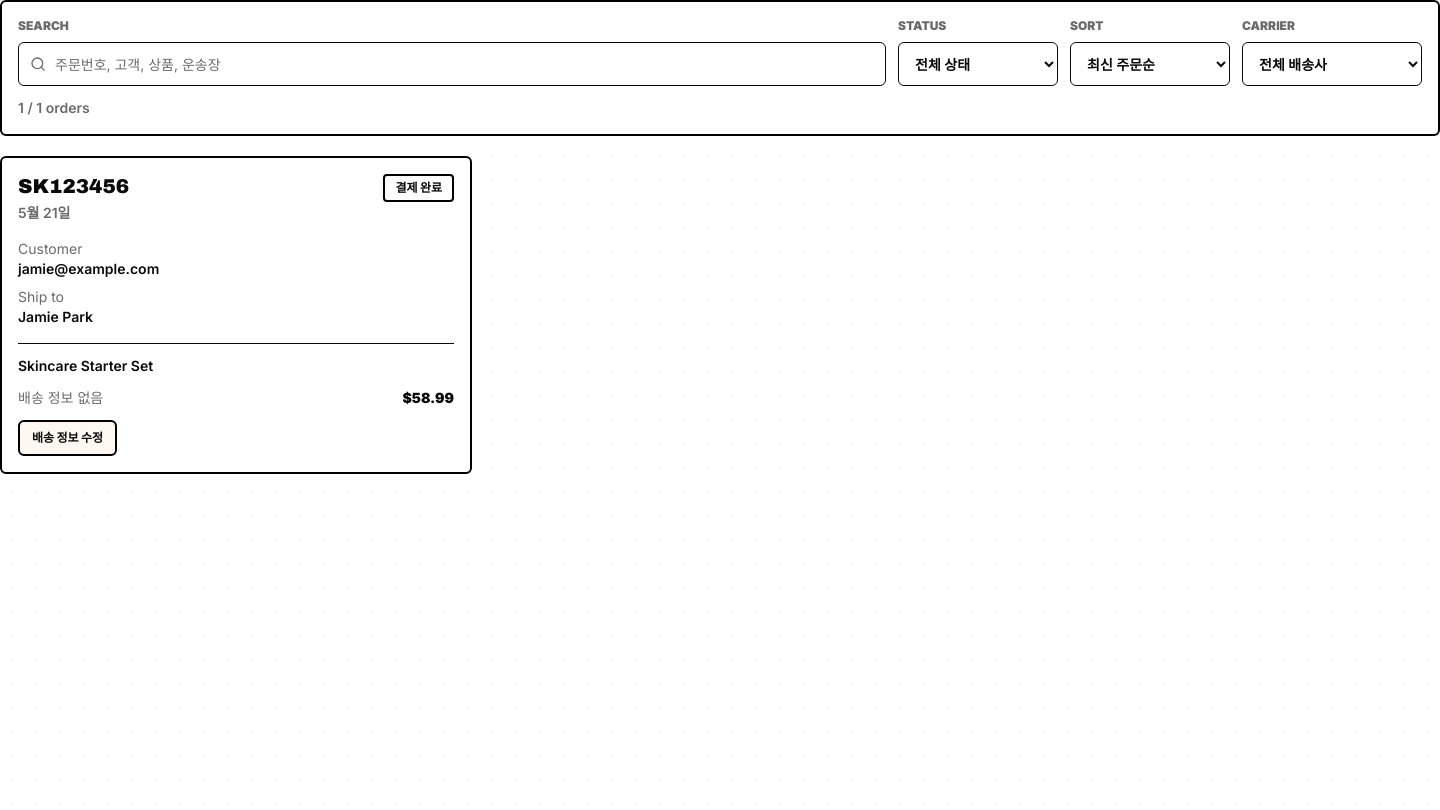
AdminOrdersClient › sends carrier and tracking details for a single order update
Click the button with test id "admin-order-order_1" at [236, 315], box 0,156 -> 472,474
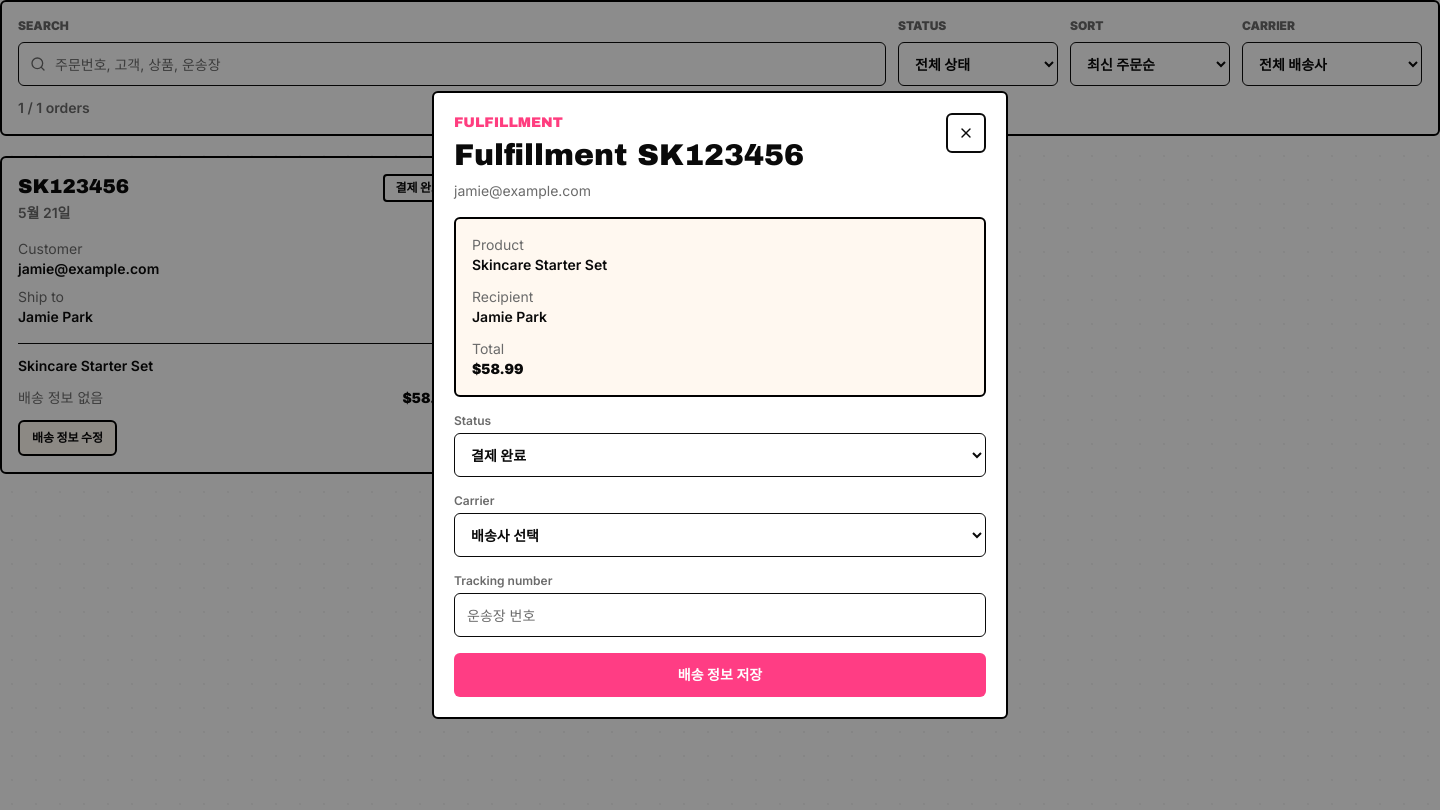
Select "준비 중" in the dropdown labelled "Status" at [720, 455], box 454,433 -> 986,477
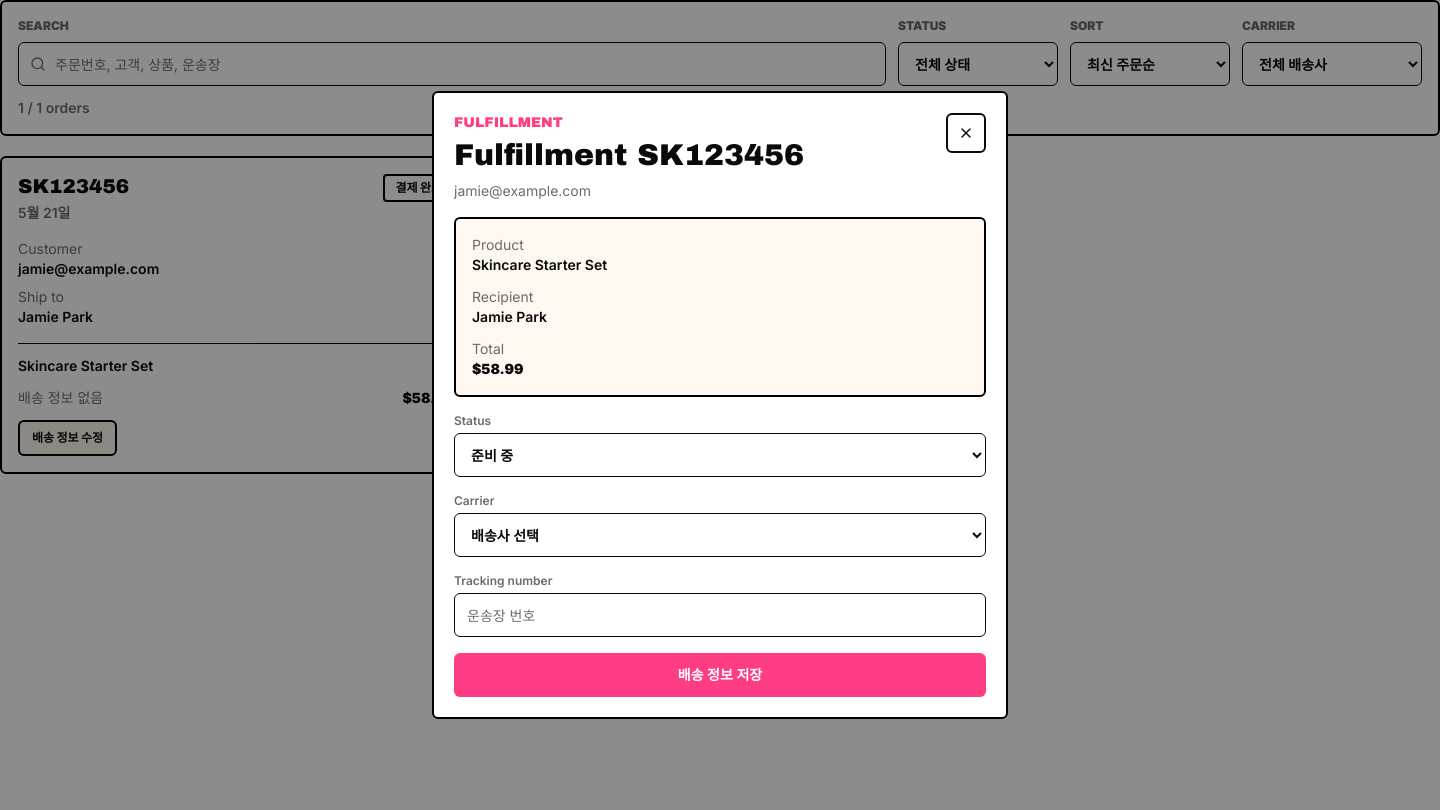
Select "FedEx" in the dropdown labelled "Carrier" at [720, 535], box 454,513 -> 986,557
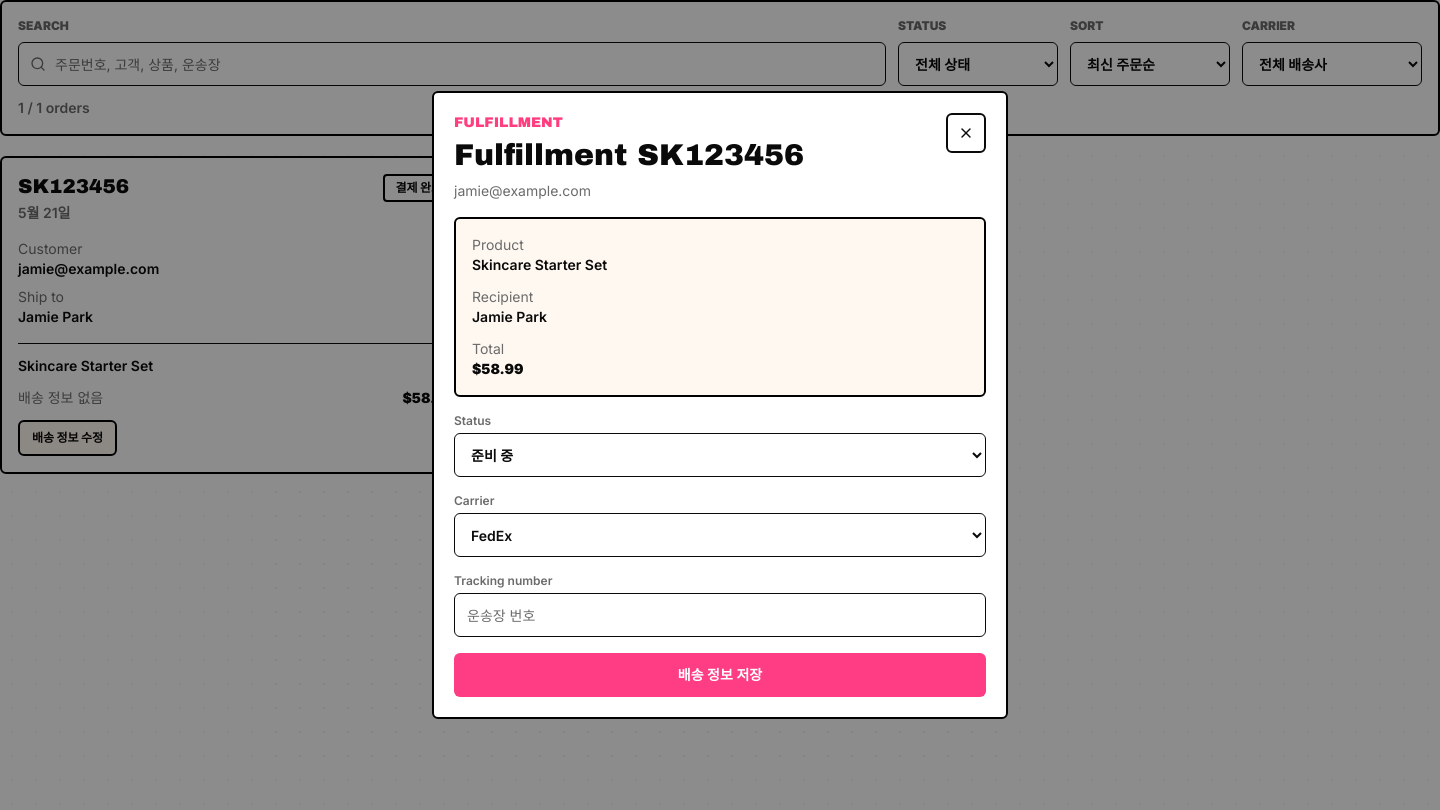
Type "123456789012" into the field labelled "Tracking number" at [720, 615], box 454,593 -> 986,637
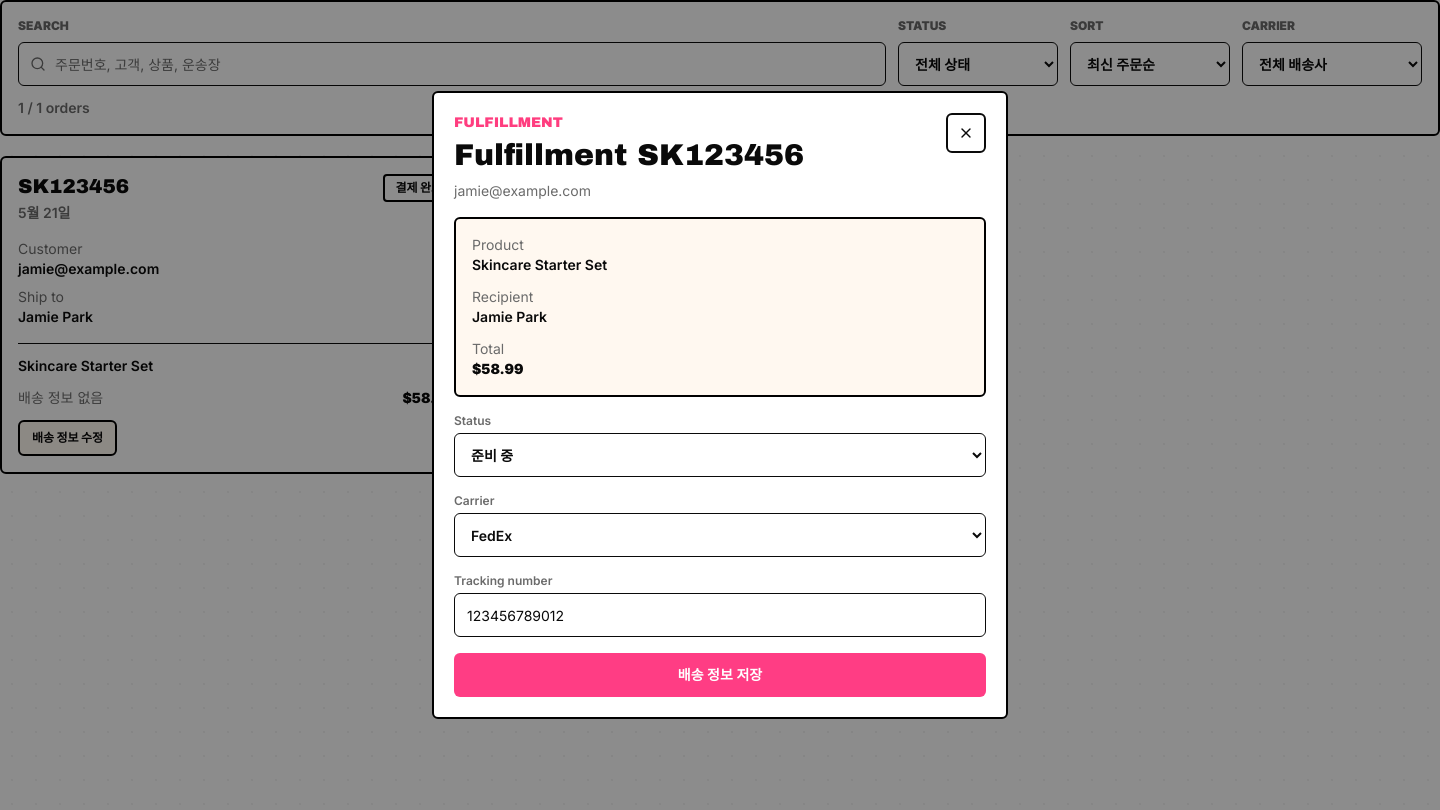
Submit the form with test id "fulfillment-form-order_1", box 454,217 -> 986,697
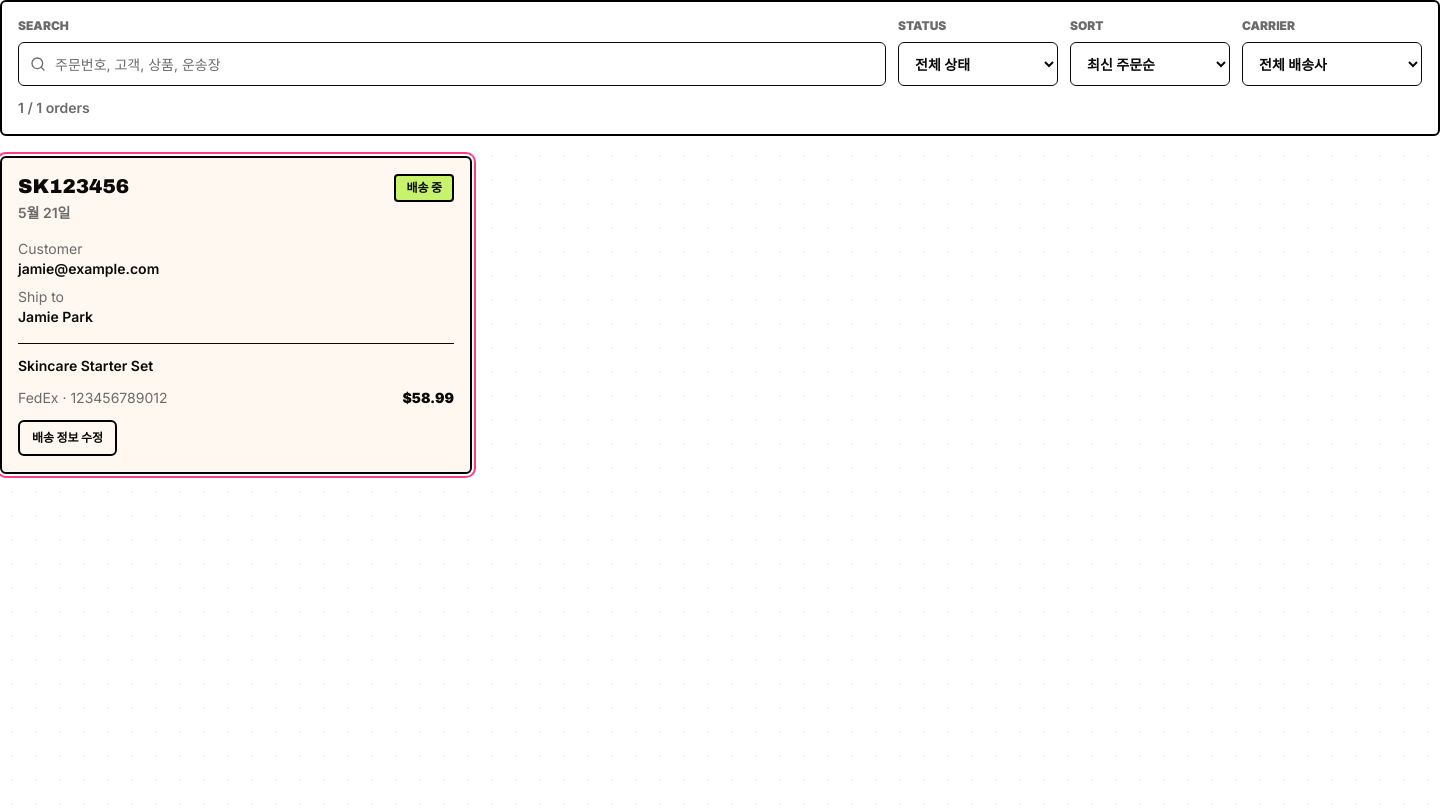
Expected: the form with test id "fulfillment-form-order_1" is gone
Expected: the text "FedEx · 123456789012" is shown, 18,388 -> 168,408
